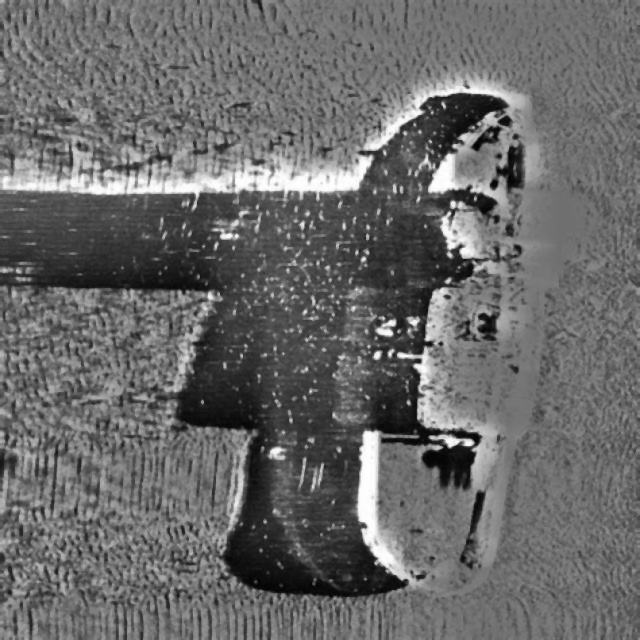Ship: (276, 60, 573, 632)
